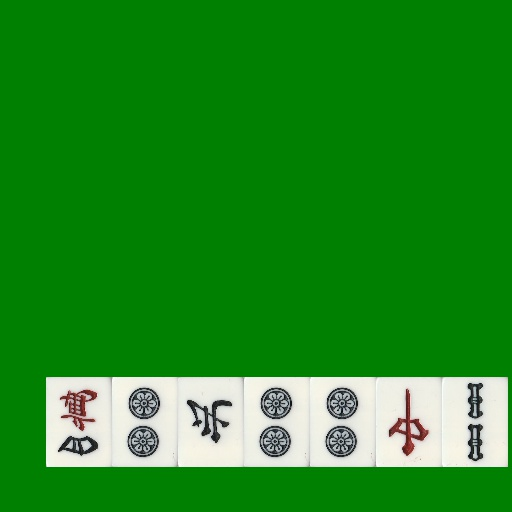2p: (112, 377, 178, 467), (244, 377, 310, 467), (310, 377, 376, 467)
2s: (442, 377, 508, 467)
4m: (46, 377, 112, 467)
north: (178, 377, 244, 467)
tyun: (376, 377, 442, 467)
